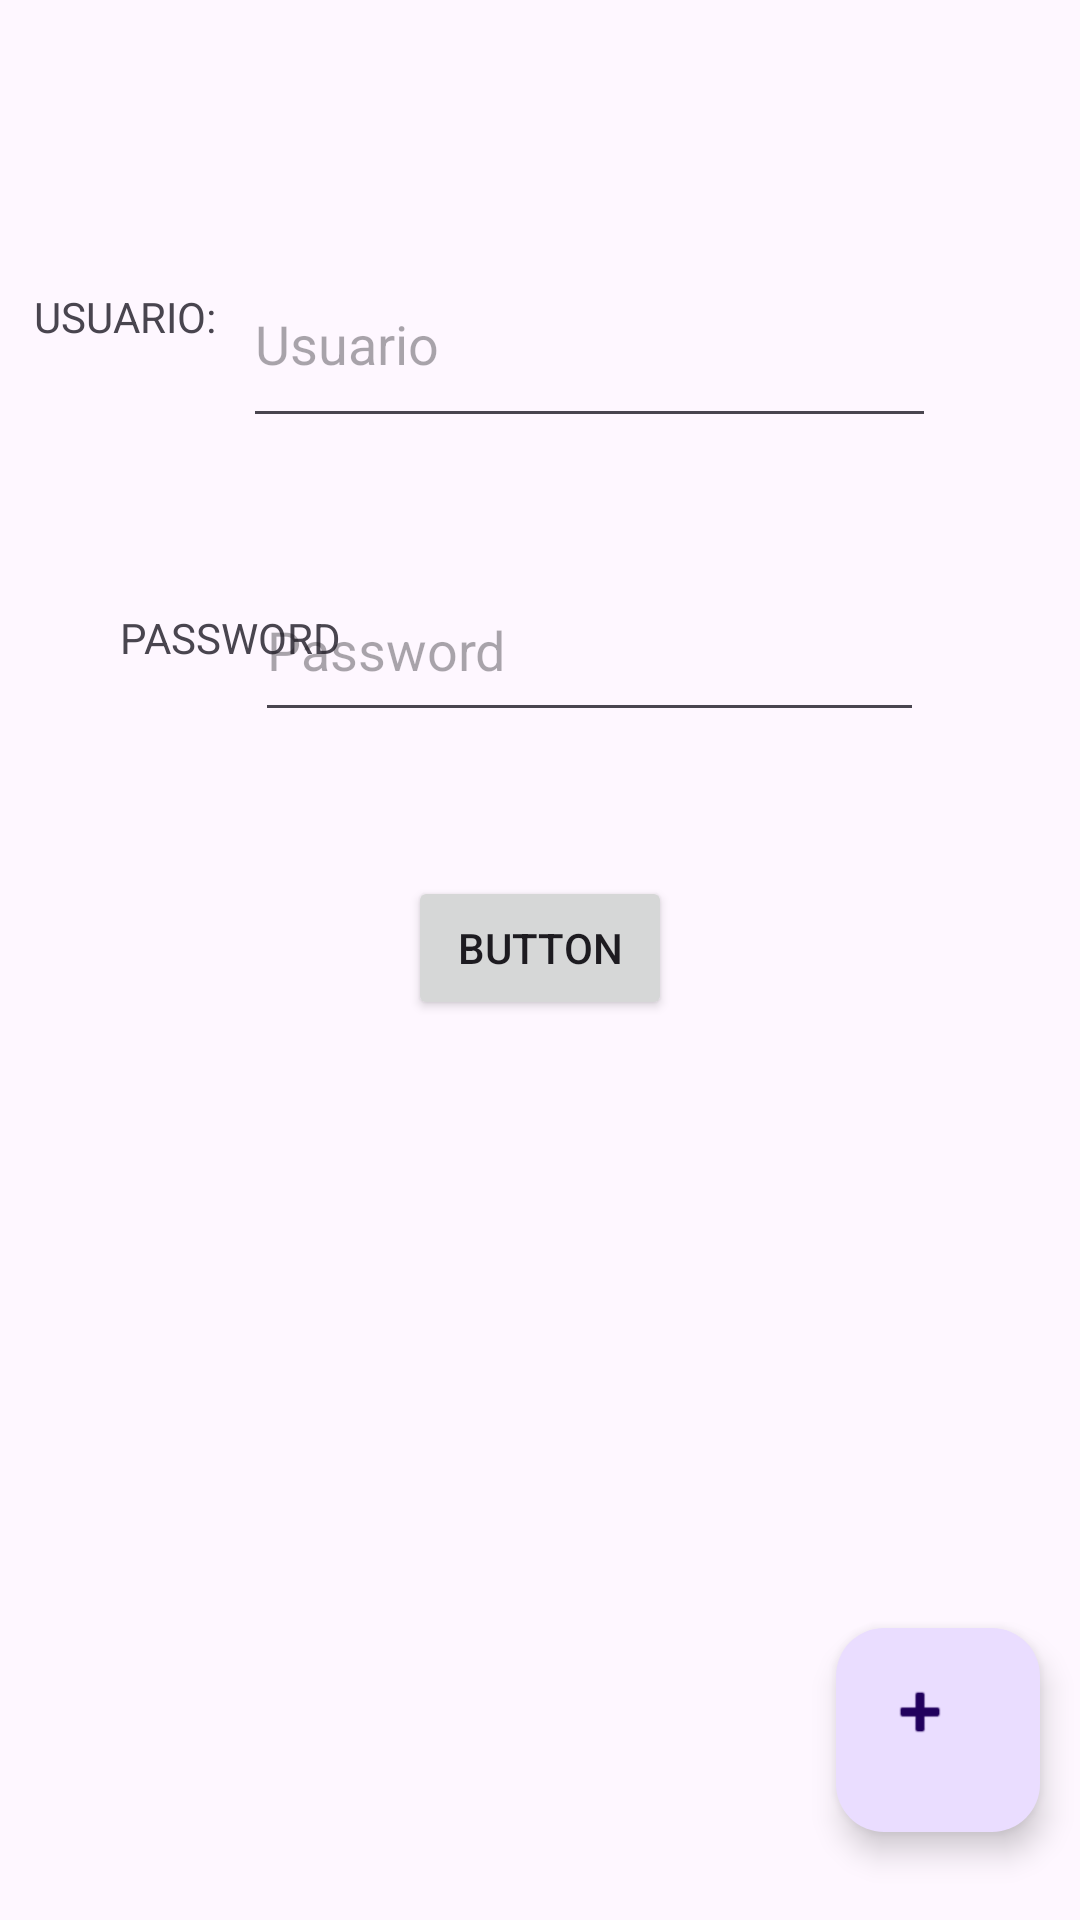

Point at icon controls on the screen. Image size 1080*1920, points as [x,y].
add: [938,1730]
